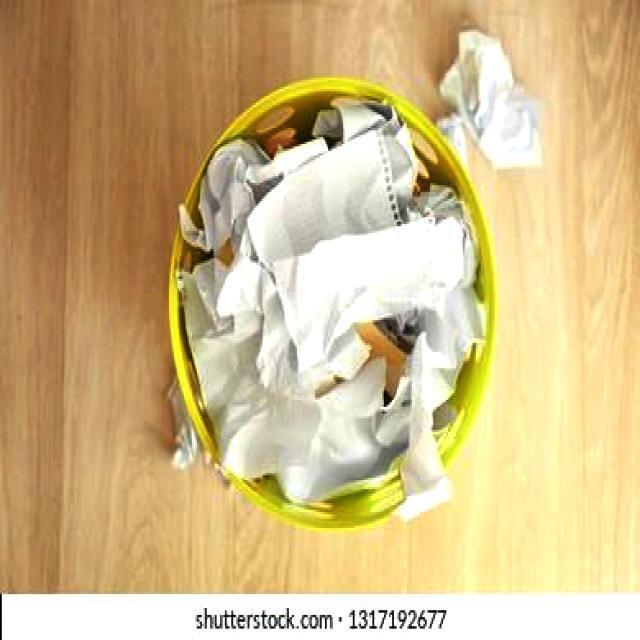Garbage: (150, 21, 550, 530)
Paper: (178, 97, 485, 518), (439, 33, 541, 166)
